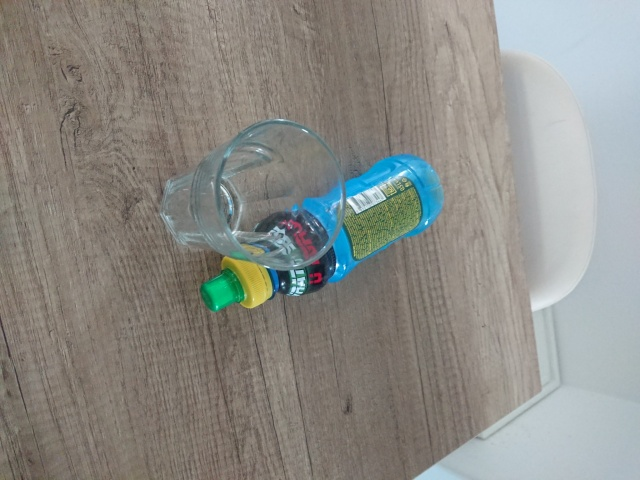Vindi Iso Sport Forest Strawberries 500mL: (198, 152, 447, 312)
